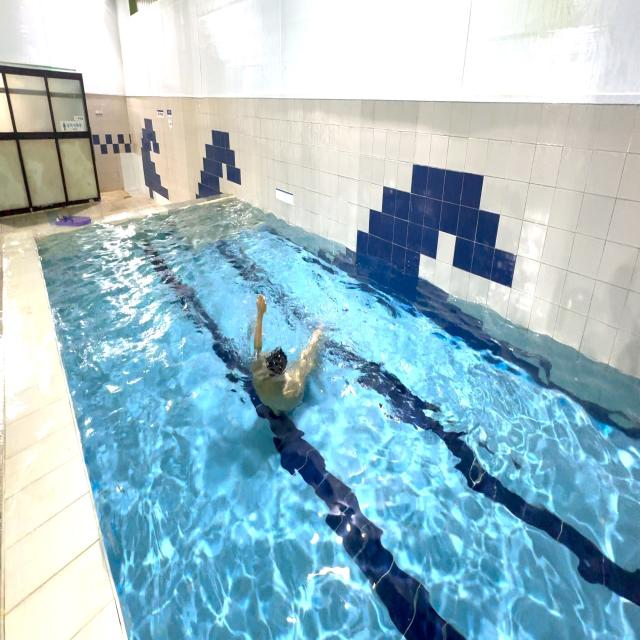Drowning: (233, 267, 331, 430)
